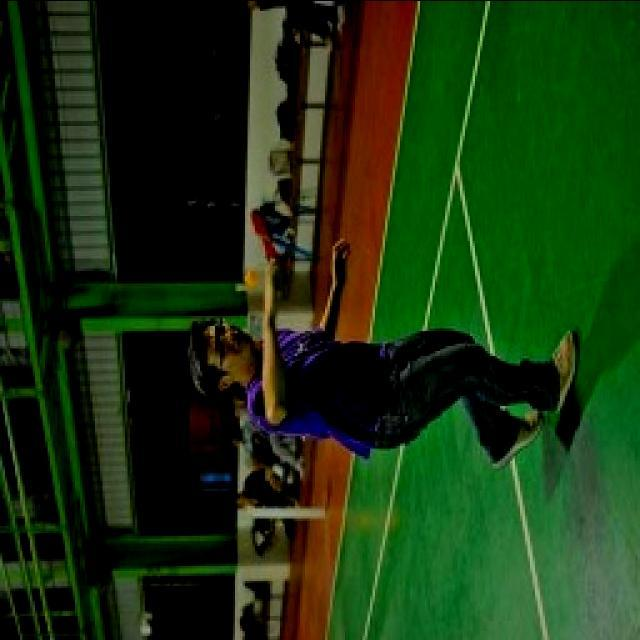oball: (242, 268, 260, 284)
